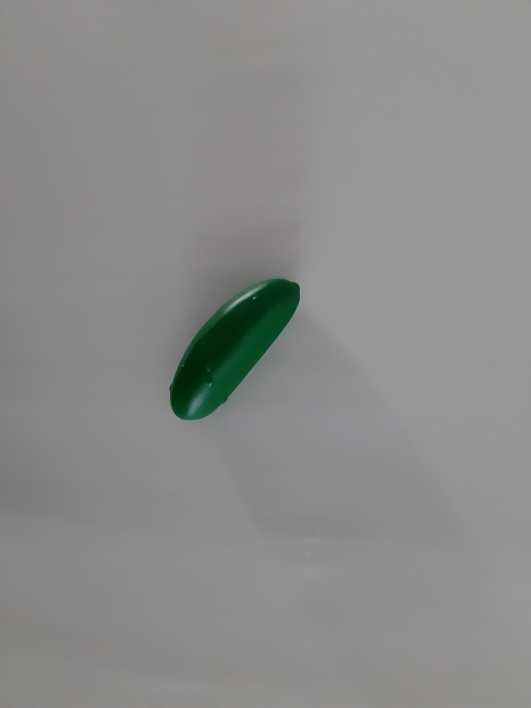cucumber: (145, 262, 316, 443)
